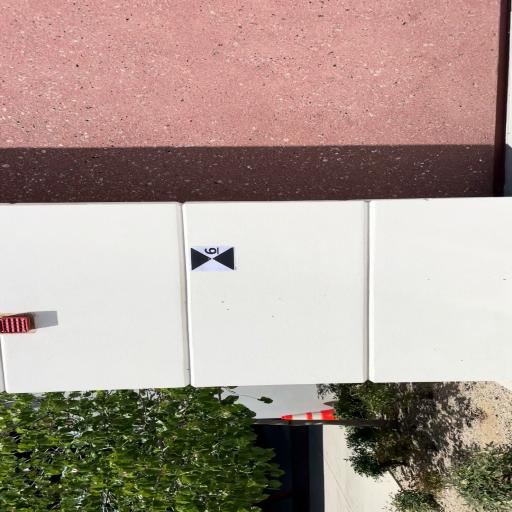target6: (191, 246, 238, 271)
